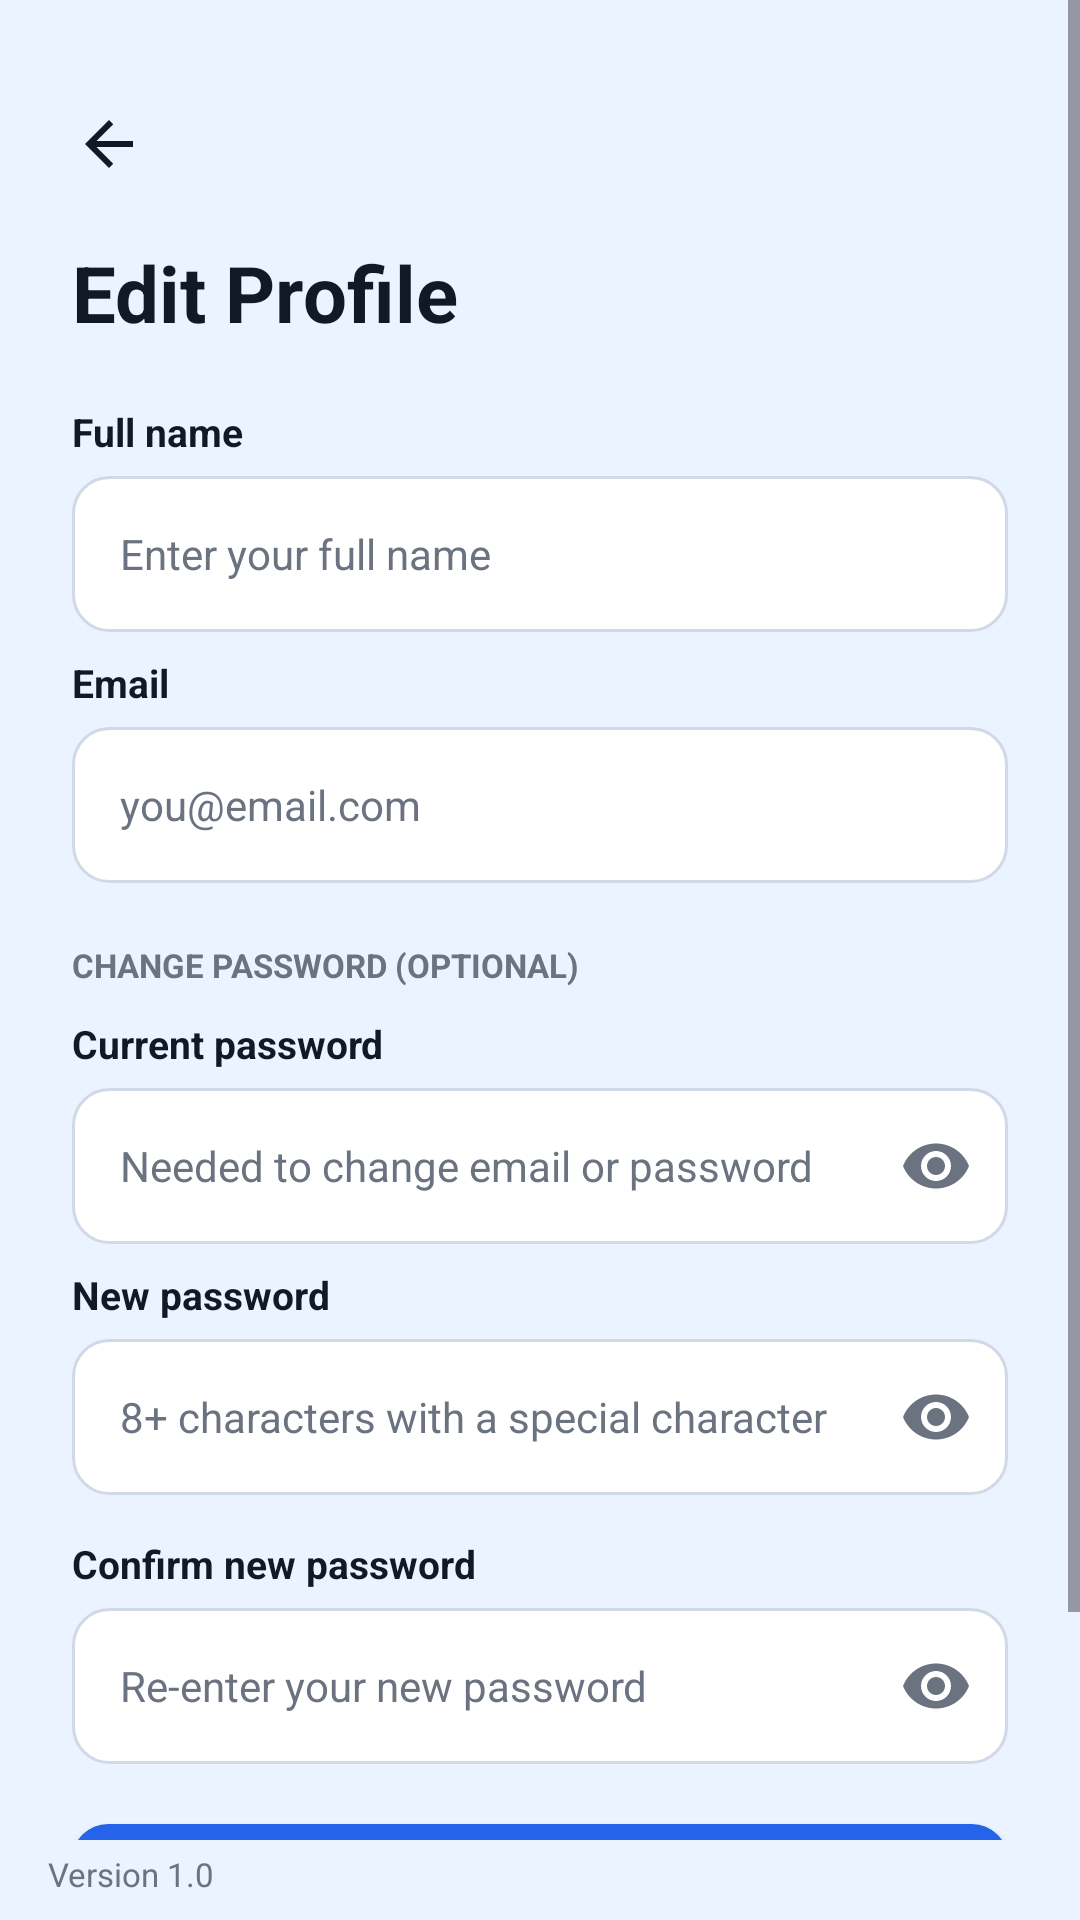

Named icons in this screenshot (1080px×1920px) and their centers, [x,y]:
Show or hide password: [936,1166], [936,1417], [936,1686]
